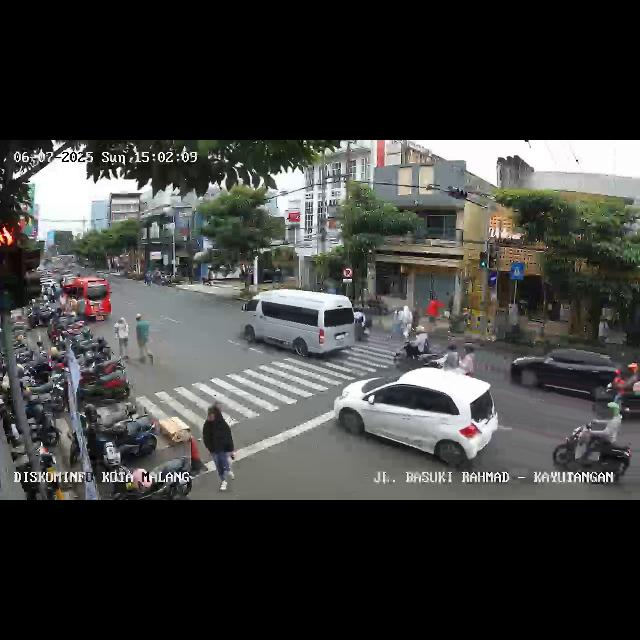car: (332, 366, 498, 470), (242, 288, 358, 362), (510, 347, 628, 407), (62, 277, 112, 323)
motorcycle: (552, 404, 632, 480), (591, 362, 639, 416), (394, 326, 438, 368), (440, 344, 462, 371), (354, 308, 371, 342)
person: (202, 408, 238, 492), (134, 312, 152, 366), (116, 315, 132, 367), (428, 300, 439, 332)
